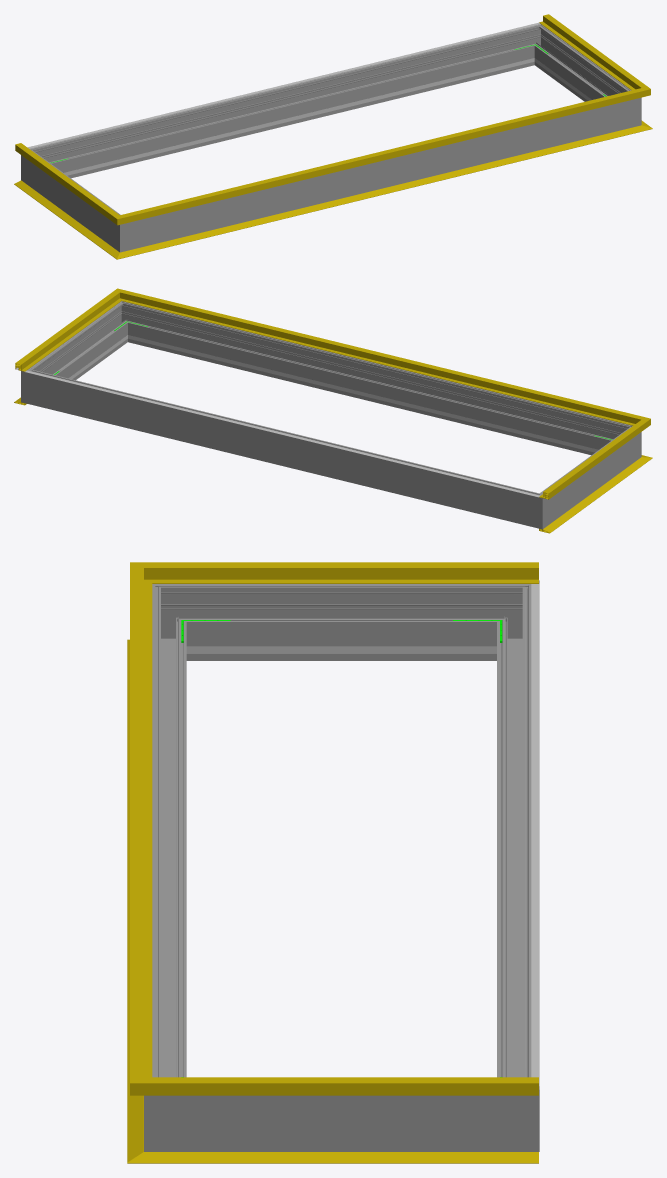
The picture shows the model from 3 angles, top to bottom: view 1: azimuth 30°, elevation 25°; view 2: azimuth 150°, elevation 25°; view 3: azimuth 270°, elevation 25°; orthographic projection. The views are drawn at different scales.
Parts seen in each view (by area): view 1: 3DGeom-276, 3DGeom-298, 3DGeom-123, 3DGeom-28, 3DGeom-297, 3DGeom-268, 3DGeom-244, 3DGeom-128, 3DGeom-220, 3DGeom-118, 3DGeom-270, 3DGeom-38 (+4 smaller); view 2: 3DGeom-298, 3DGeom-276, 3DGeom-123, 3DGeom-297, 3DGeom-268, 3DGeom-239, 3DGeom-128, 3DGeom-220, 3DGeom-118, 3DGeom-278, 3DGeom-38, 3DGeom-284 (+3 smaller); view 3: 3DGeom-268, 3DGeom-297, 3DGeom-276, 3DGeom-298, 3DGeom-123, 3DGeom-118, 3DGeom-128, 3DGeom-220, 3DGeom-30, 3DGeom-284, 3DGeom-290, 3DGeom-278 (+6 smaller).
Boxes of the visible parts, box(x1,y1,x2,y2) form: 3DGeom-276: box(45, 28, 530, 178); 3DGeom-298: box(142, 103, 619, 246); 3DGeom-123: box(136, 92, 628, 219); 3DGeom-28: box(135, 129, 630, 254); 3DGeom-297: box(537, 32, 624, 101); 3DGeom-268: box(34, 156, 113, 242); 3DGeom-244: box(72, 63, 513, 174); 3DGeom-128: box(539, 14, 637, 87); 3DGeom-220: box(27, 22, 540, 148); 3DGeom-118: box(15, 143, 109, 215); 3DGeom-270: box(107, 210, 142, 252); 3DGeom-38: box(14, 180, 110, 249); 3DGeom-298: box(131, 305, 616, 455); 3DGeom-276: box(43, 373, 524, 523); 3DGeom-123: box(134, 294, 628, 423); 3DGeom-297: box(37, 309, 125, 380); 3DGeom-268: box(548, 433, 628, 519); 3DGeom-239: box(149, 340, 590, 451); 3DGeom-128: box(15, 298, 114, 371); 3DGeom-220: box(24, 370, 540, 497); 3DGeom-118: box(539, 426, 638, 499); 3DGeom-278: box(520, 487, 555, 529); 3DGeom-38: box(539, 463, 639, 533); 3DGeom-284: box(21, 362, 47, 407); 3DGeom-268: box(195, 584, 488, 660); 3DGeom-297: box(195, 1095, 488, 1151); 3DGeom-276: box(497, 602, 531, 1077); 3DGeom-298: box(152, 602, 186, 1077); 3DGeom-123: box(130, 584, 152, 1072); 3DGeom-118: box(181, 562, 538, 583); 3DGeom-128: box(181, 1077, 538, 1095); 3DGeom-220: box(531, 583, 539, 1086); 3DGeom-30: box(178, 1152, 538, 1163); 3DGeom-284: box(488, 1067, 539, 1151); 3DGeom-290: box(144, 1067, 195, 1151); 3DGeom-278: box(488, 580, 539, 660).
Size of the model in its own units: 3.66 by 0.2596 by 1.22.
